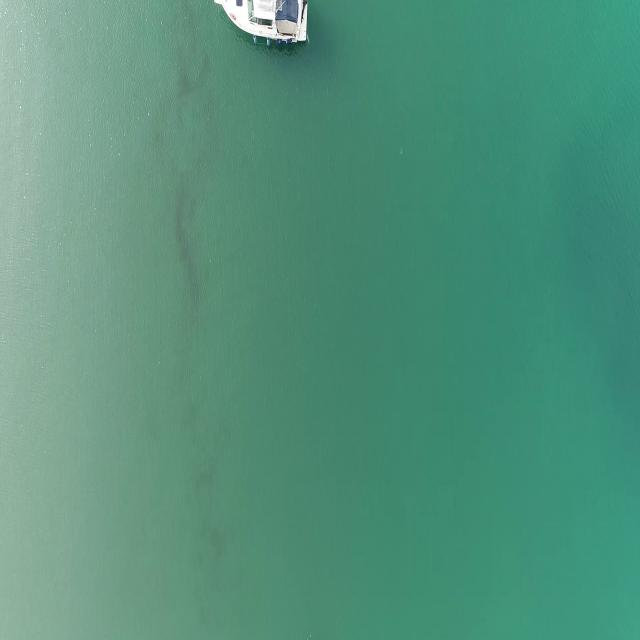boat: (215, 0, 310, 56)
